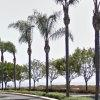Palm tree: (9, 9, 71, 85)
